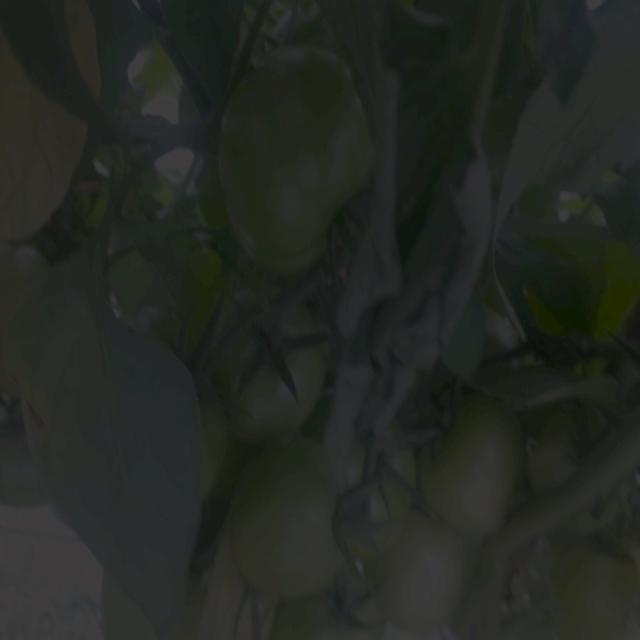tomato: (208, 43, 386, 268), (239, 442, 355, 582), (213, 307, 326, 441), (423, 404, 529, 531), (374, 534, 482, 633), (558, 545, 640, 640), (541, 404, 618, 490), (1, 414, 53, 511), (272, 592, 363, 640), (364, 439, 412, 527)
